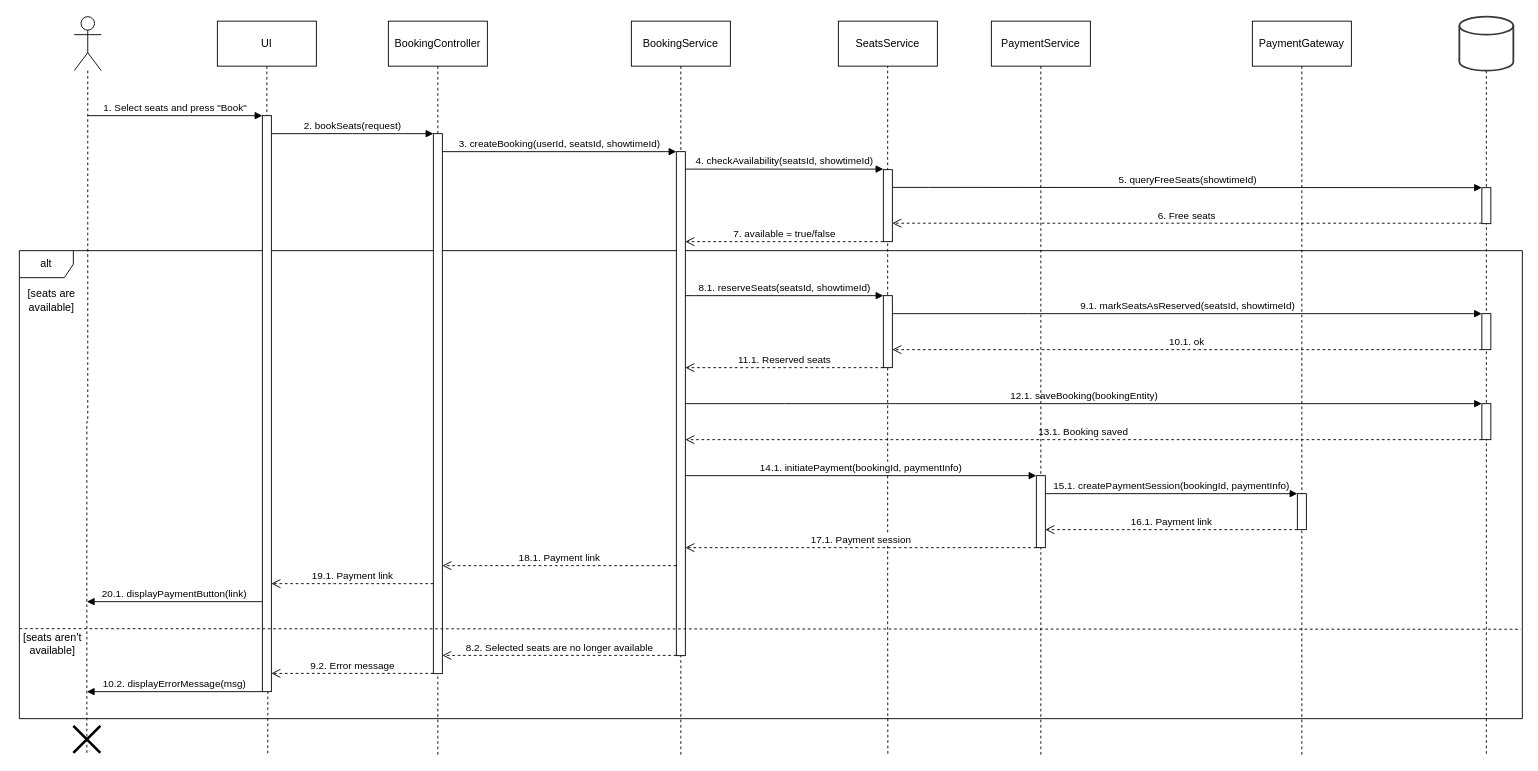
This 1538x771 diagram has some shape labels left out. Each missing label, with the box of its shape:
DB: (1458, 15, 1514, 71)
User: (73, 16, 101, 71)
